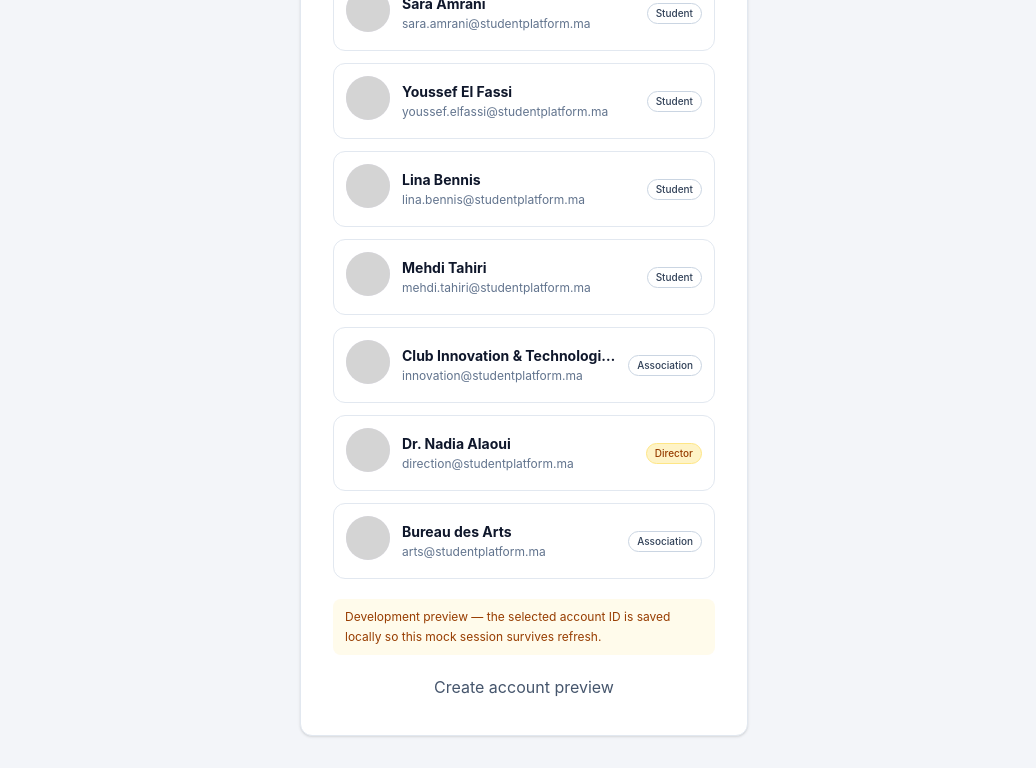
Test: MockLoginPage › authenticates the selected Association using its canonical persisted identity
The image size is (1036, 768).
(page scrolled)
Click the button "Bureau des Arts arts@studentplatform.ma Association": (524, 541) [333,503,715,579]
(page scrolled)
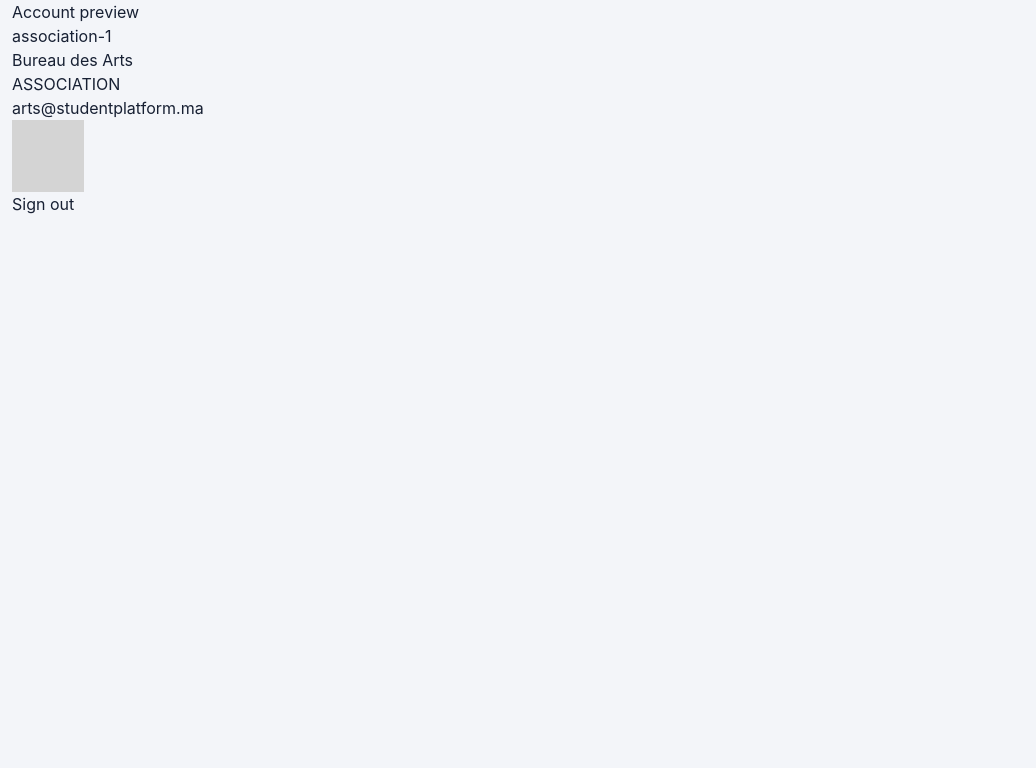
expect the heading "Account preview" is shown: met, box [12,2,139,22]
expect the text "association-1" is shown: met, box [12,26,112,46]
